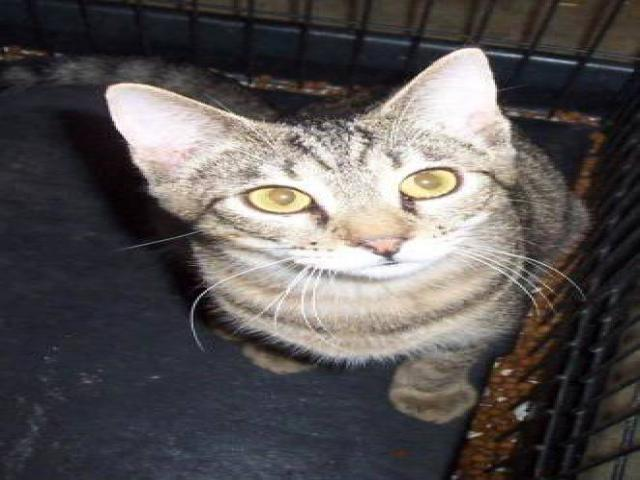cat: (97, 50, 584, 433)
